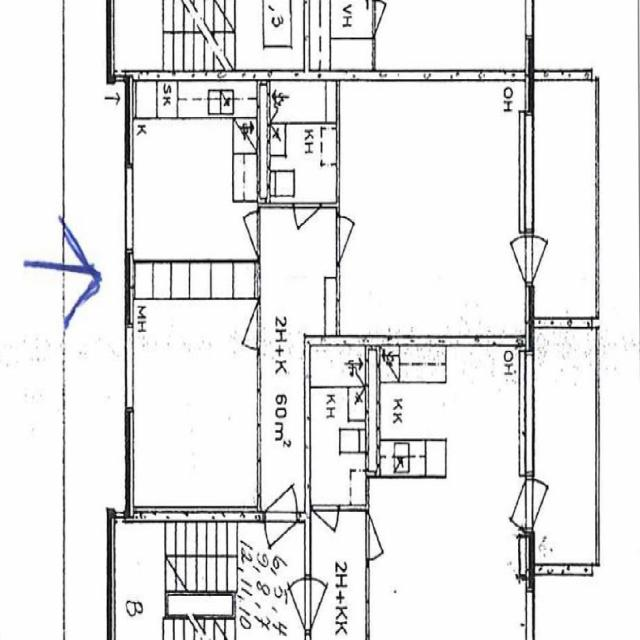door: (494, 236, 534, 285), (265, 511, 297, 571), (265, 460, 297, 520), (525, 236, 564, 285), (336, 216, 368, 262), (229, 303, 260, 349), (230, 211, 260, 255), (294, 202, 320, 248)
